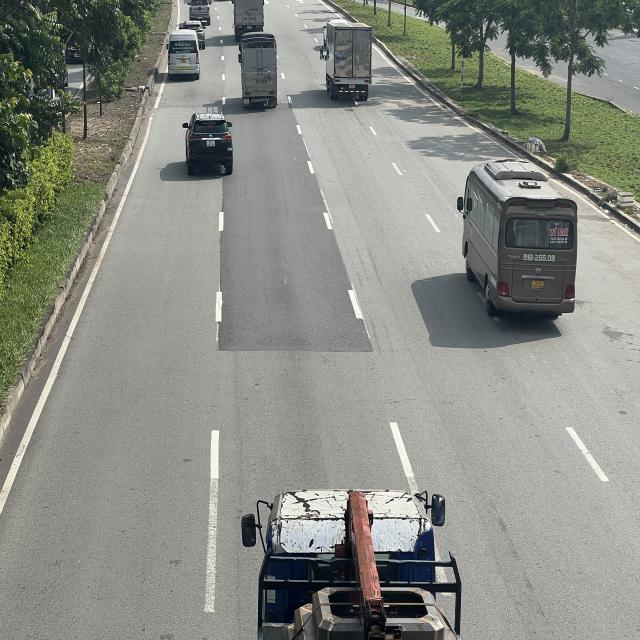car: (184, 112, 236, 172)
coach: (456, 158, 578, 316)
truck: (247, 492, 468, 640), (320, 16, 374, 97), (241, 31, 281, 107), (233, 0, 266, 37)
van: (167, 30, 200, 77)
